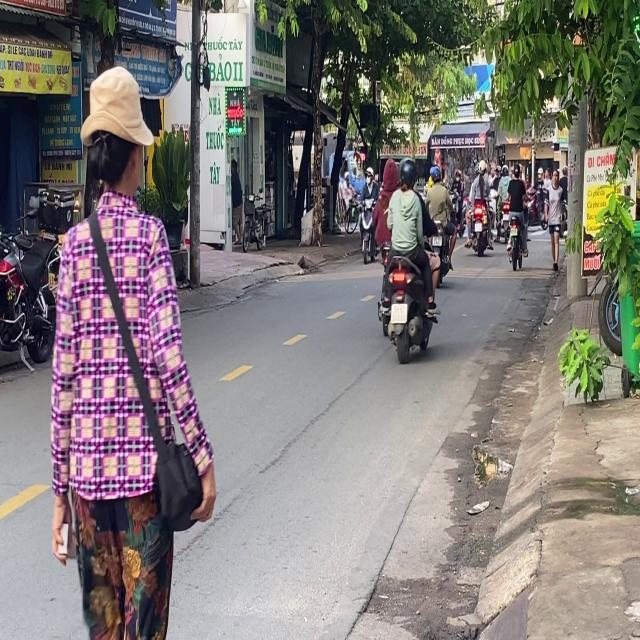helmet: (398, 157, 415, 189)
licenseplate: (375, 155, 439, 362)
nohelmet: (390, 303, 407, 323)
